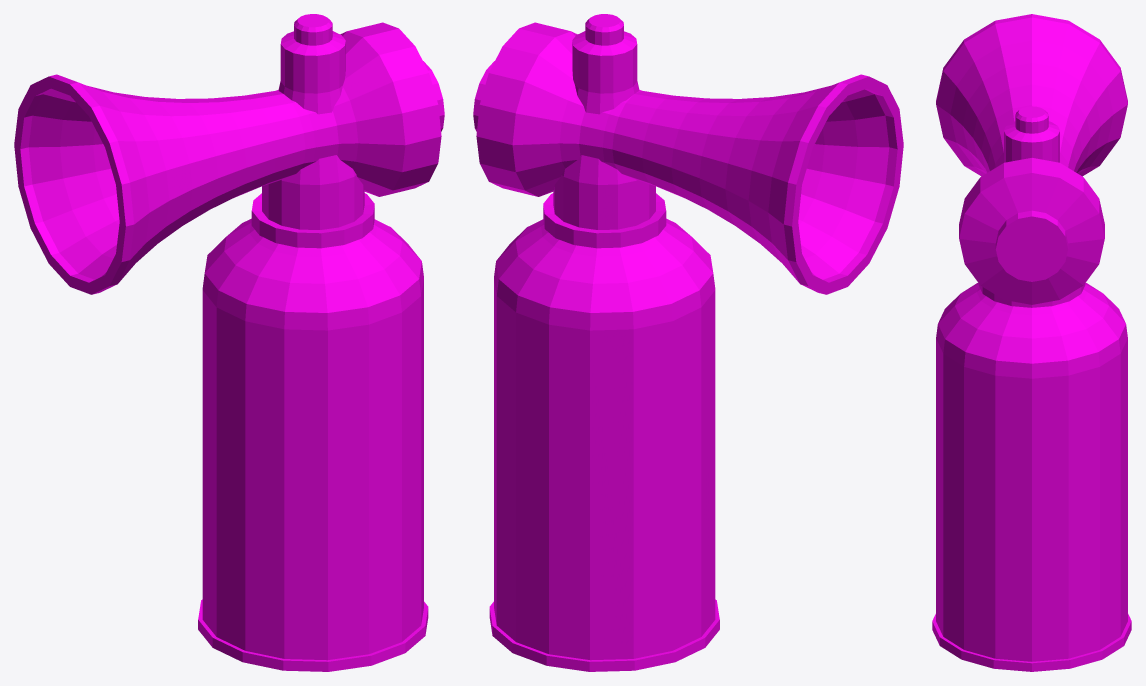
File: airhorn.fbx
The picture shows the model from 3 angles, left to right: view 1: azimuth 30°, elevation 25°; view 2: azimuth 150°, elevation 25°; view 3: azimuth 270°, elevation 25°; orthographic projection. The views are drawn at different scales.
Parts seen in each view (by area): view 1: airhorn_full; view 2: airhorn_full; view 3: airhorn_full.
Part boxes in pixels (x1=…): airhorn_full: x1=14, y1=14, x2=444, y2=671; airhorn_full: x1=473, y1=14, x2=903, y2=671; airhorn_full: x1=932, y1=14, x2=1131, y2=671.
Bounding box in the file's own units: 296 × 482 × 168.
